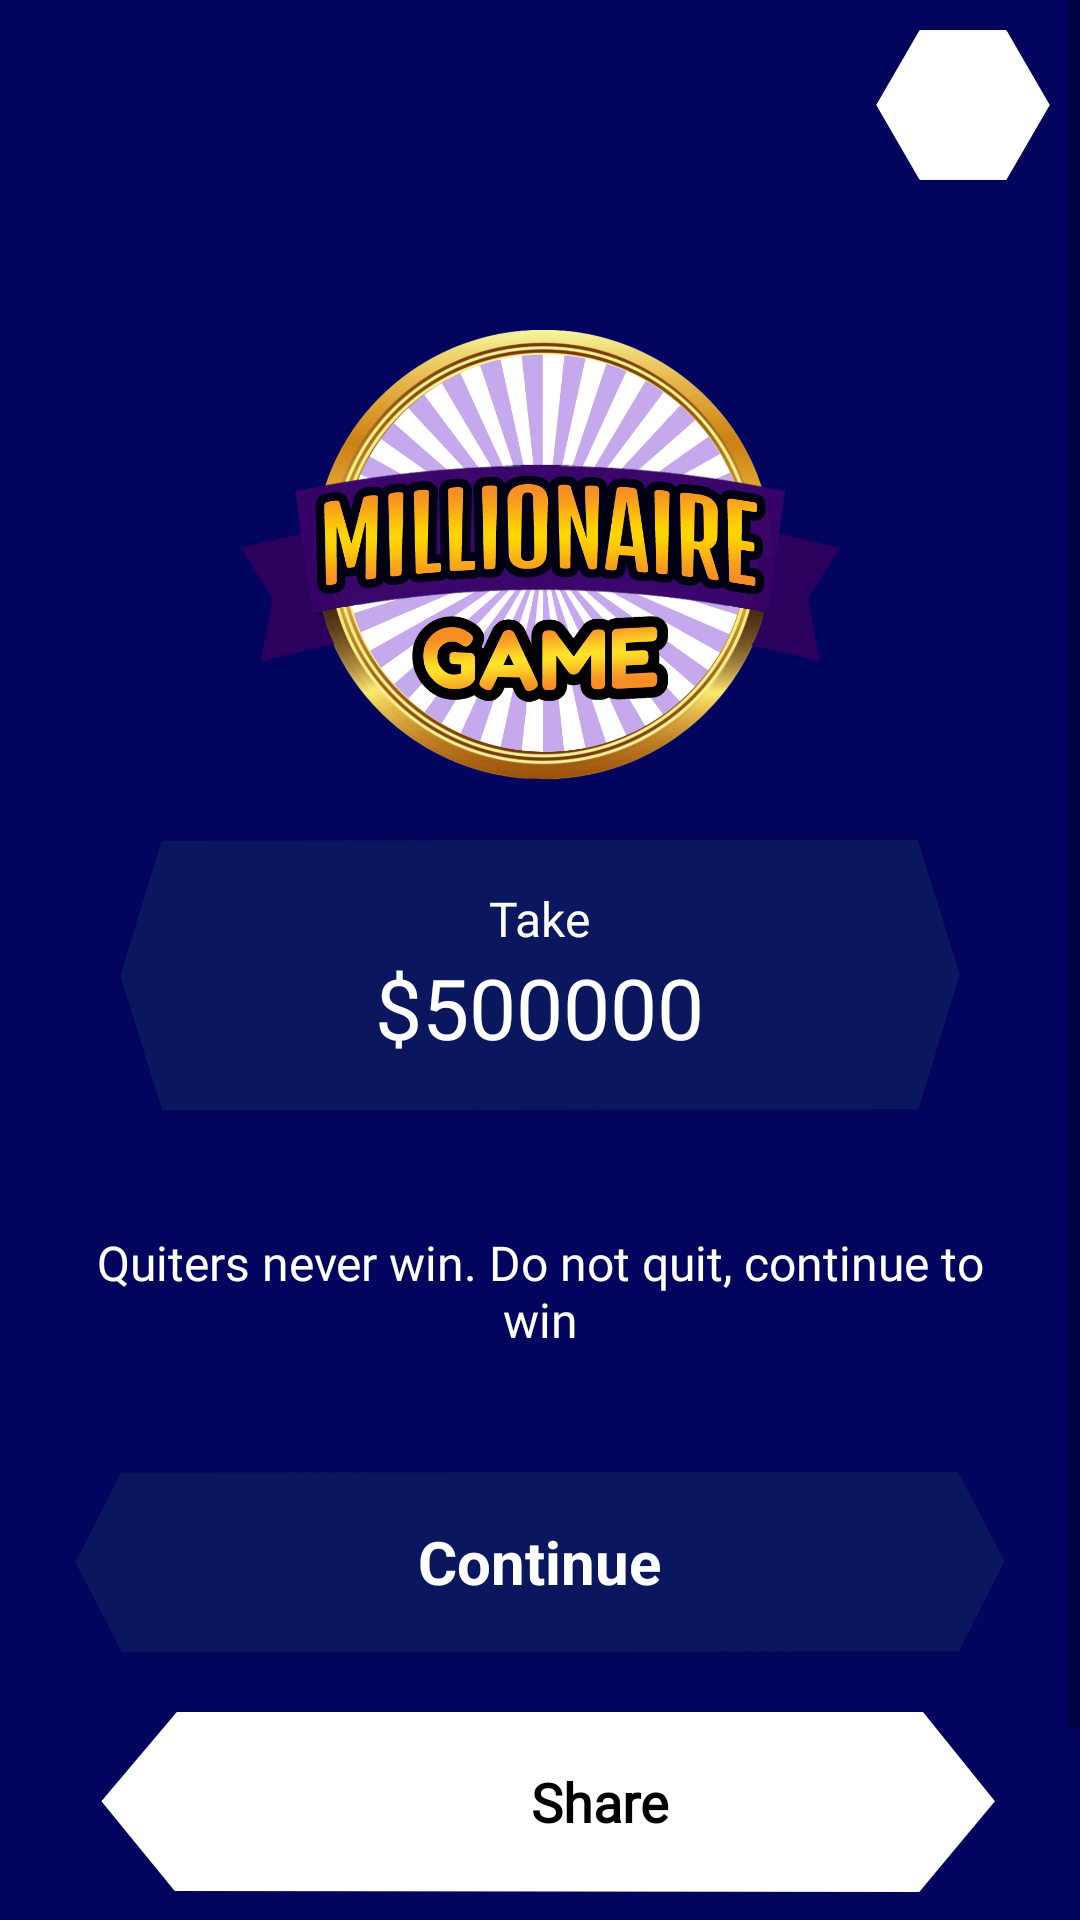

Named icons in this screenshot (1080*1920) and their centers, [x,y]:
hexagon: [963,105]
